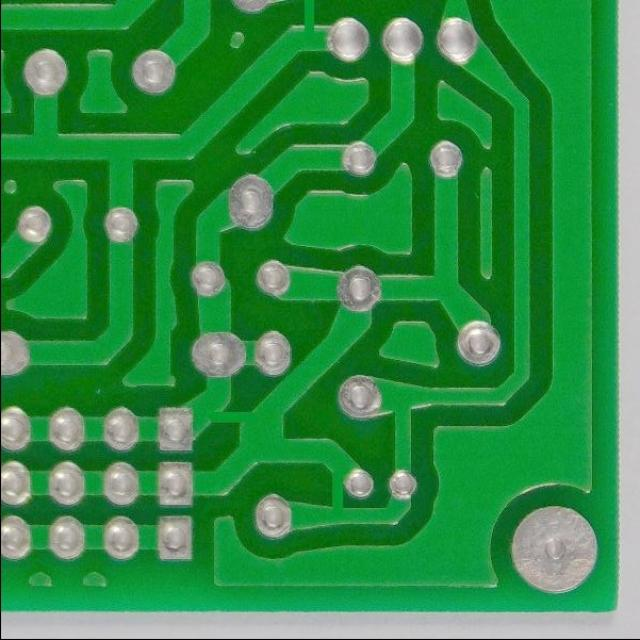Short_Circuit: (313, 456, 360, 533), (194, 398, 269, 434), (290, 0, 326, 53)
